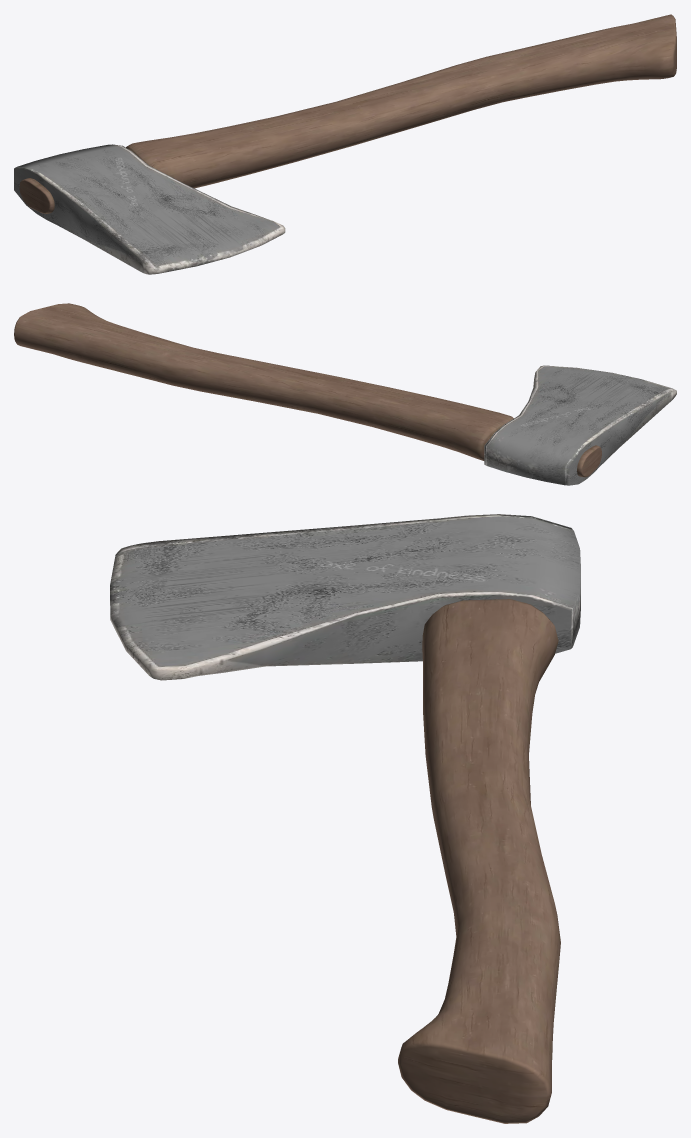
The model's file is tool-salvagedAxe.glb.
The picture shows the model from 3 angles, top to bottom: view 1: azimuth 30°, elevation 25°; view 2: azimuth 150°, elevation 25°; view 3: azimuth 270°, elevation 25°; orthographic projection. The views are drawn at different scales.
Visible parts, largest first — view 1: Hatchet_Hatchet_0; view 2: Hatchet_Hatchet_0; view 3: Hatchet_Hatchet_0.
Boxes of the visible parts, box(x1,y1,x2,y2) form: Hatchet_Hatchet_0: box(14, 14, 676, 274); Hatchet_Hatchet_0: box(14, 303, 676, 485); Hatchet_Hatchet_0: box(110, 514, 580, 1123).
Size of the model in its own units: 0.3485 by 0.0214 by 0.1255.
Materials: 1 (1 with a texture image).
